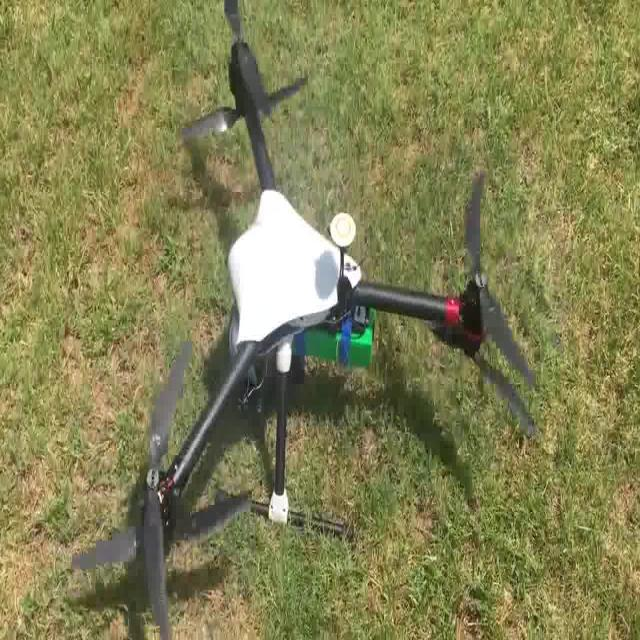drone: (70, 0, 541, 640)
